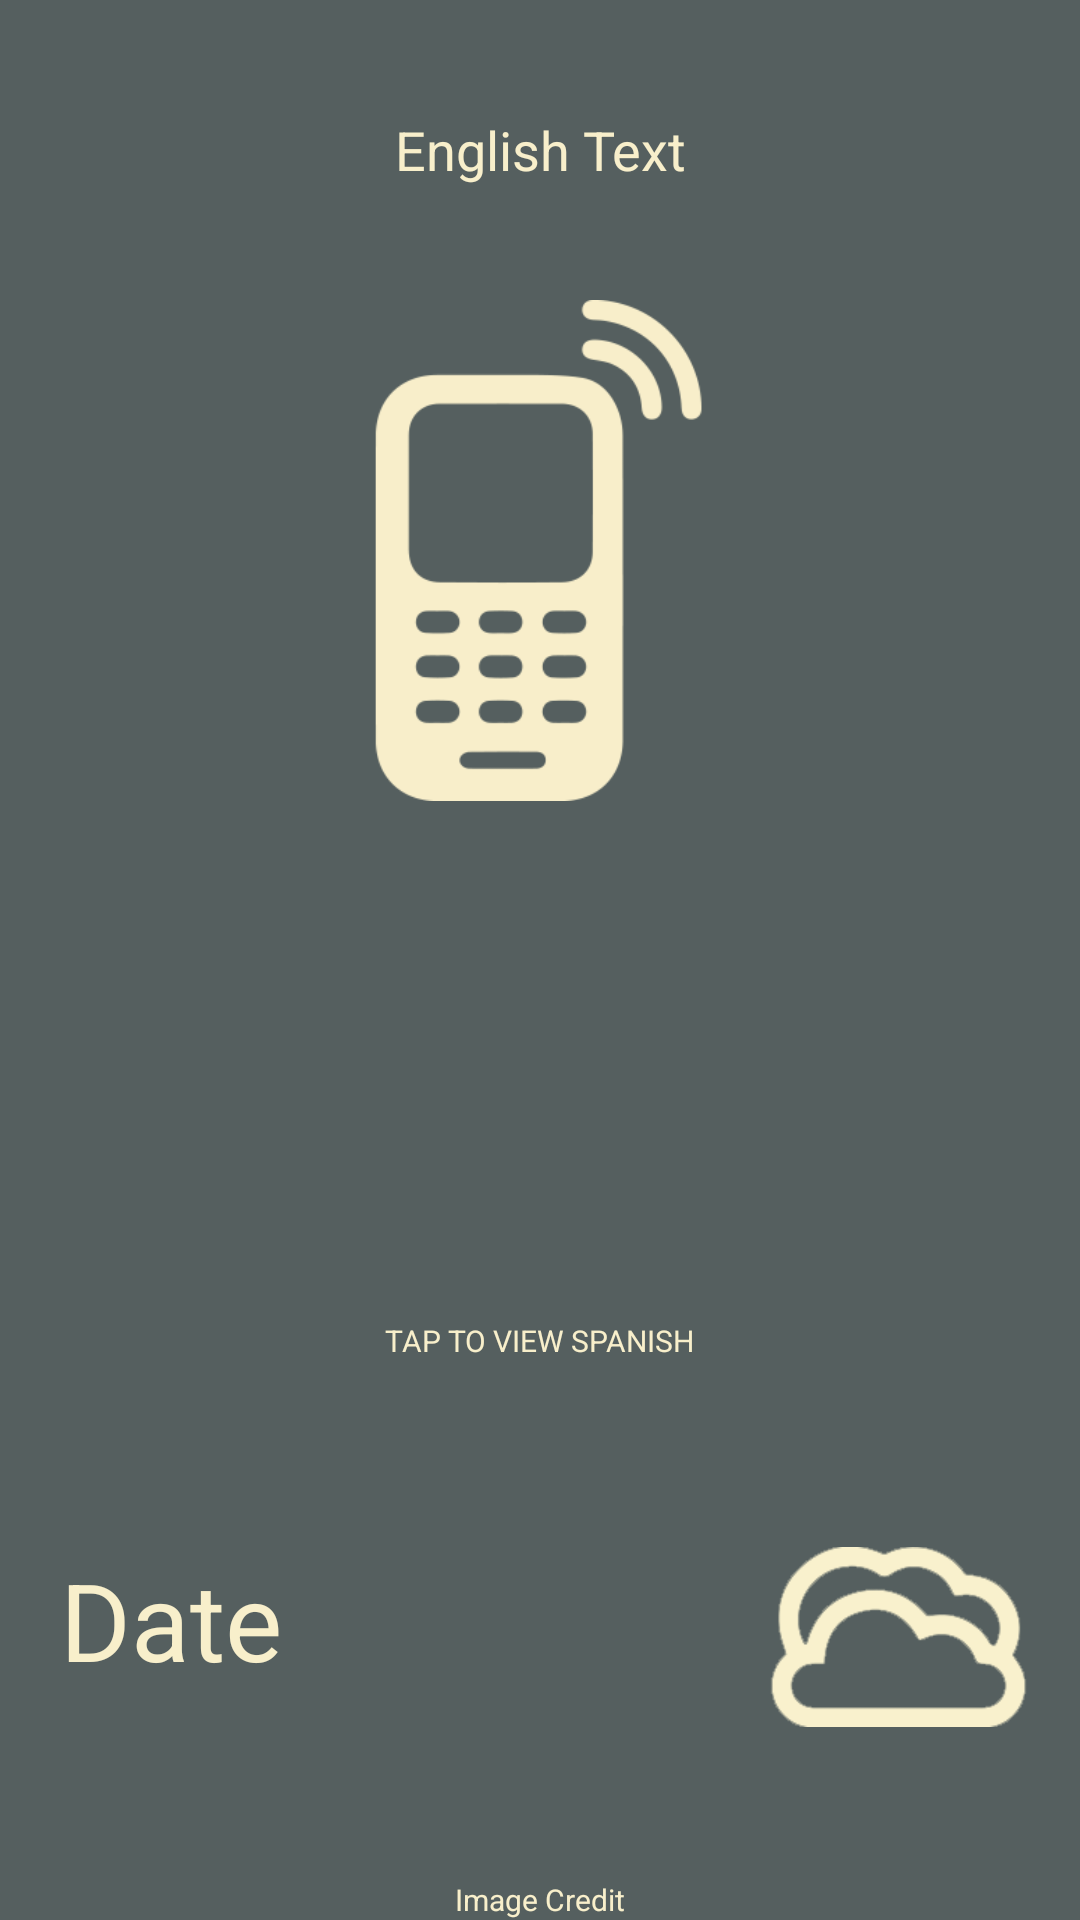

Icon bounding boxes for this 1080×1920 phone screenshot, format region(x1, y1, x2, y2):
cloudy: region(771, 1547, 1026, 1727)
